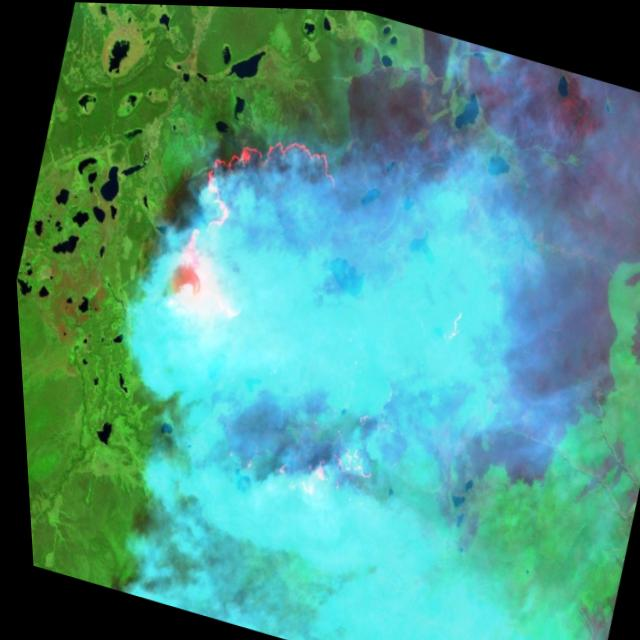fire: (84, 96, 517, 567)
